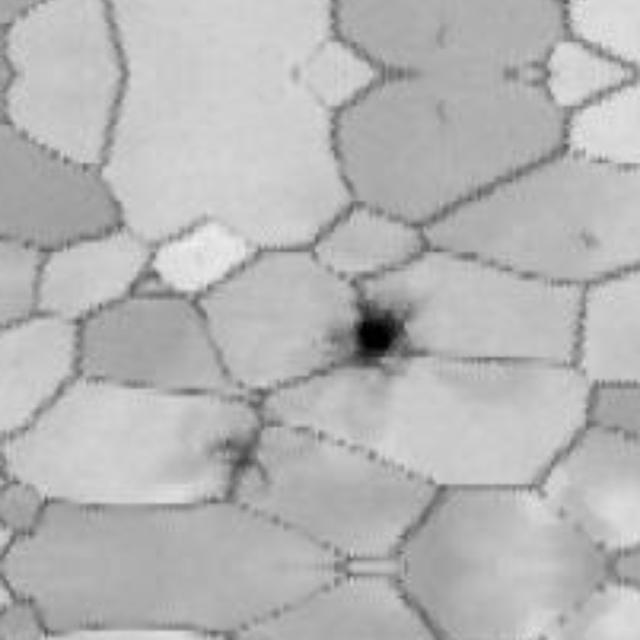good_void: (343, 296, 415, 373), (211, 434, 270, 481), (571, 228, 604, 249)
